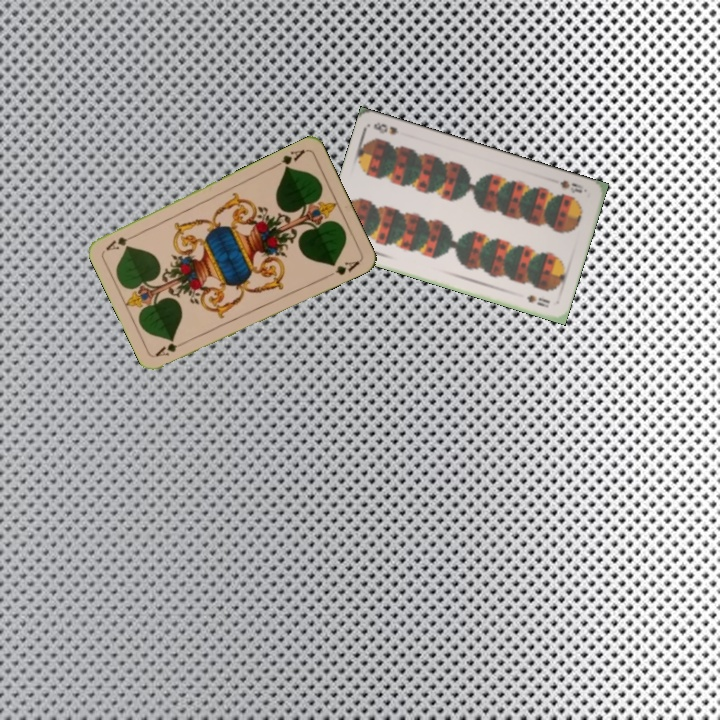GA: (270, 145, 307, 172), (152, 337, 190, 359)
S8: (556, 176, 585, 196)
